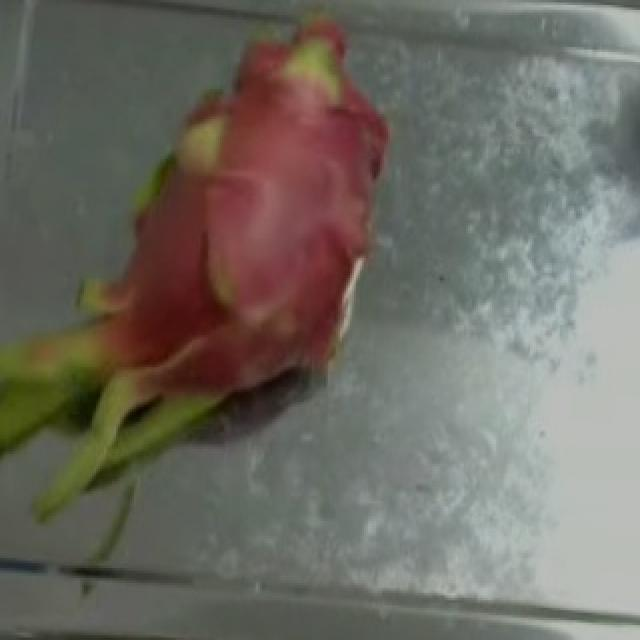fruit: (6, 34, 414, 488)
